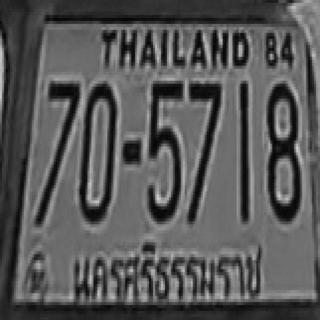N00: (79, 81, 116, 221)
N01: (238, 81, 248, 221)
N05: (145, 79, 181, 220)
N07: (35, 81, 79, 224), (41, 81, 79, 221), (185, 81, 221, 221), (45, 81, 78, 224)
N08: (265, 81, 299, 218)
P32: (68, 237, 269, 306)
